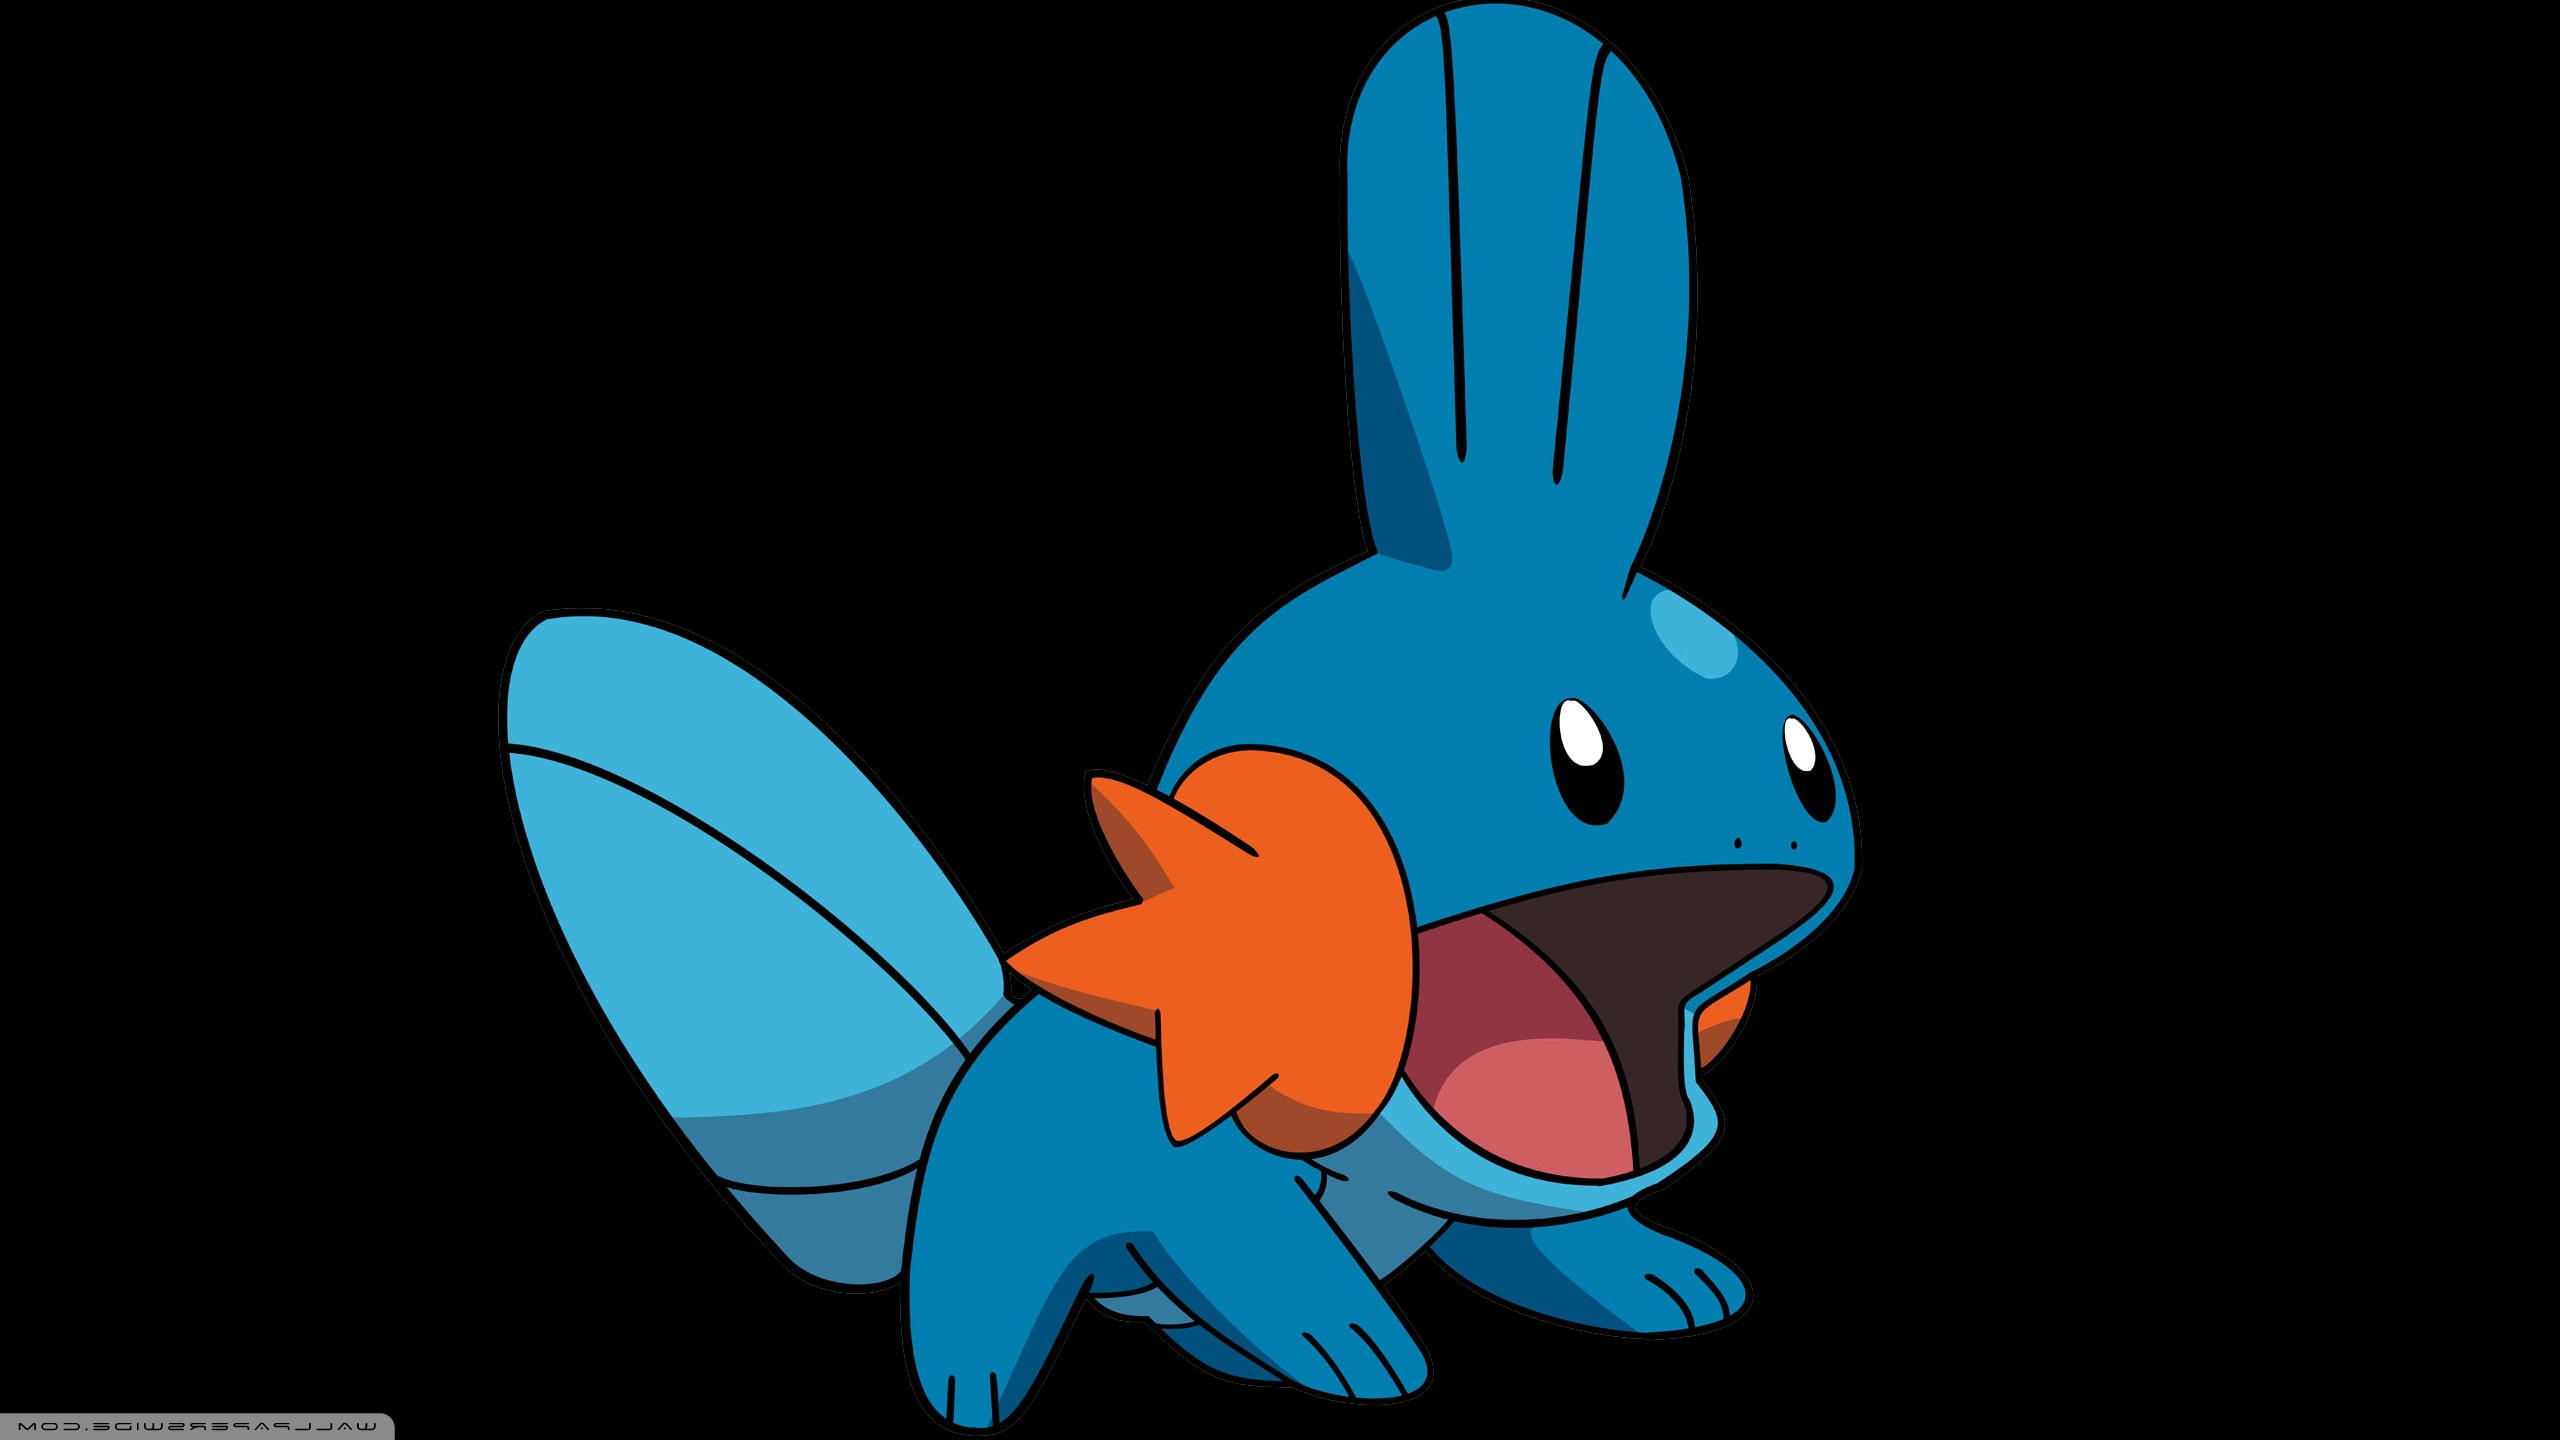mudkip: (471, 2, 1867, 1426)
